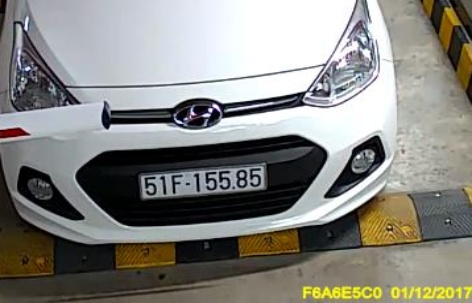plate: (136, 160, 270, 202)
